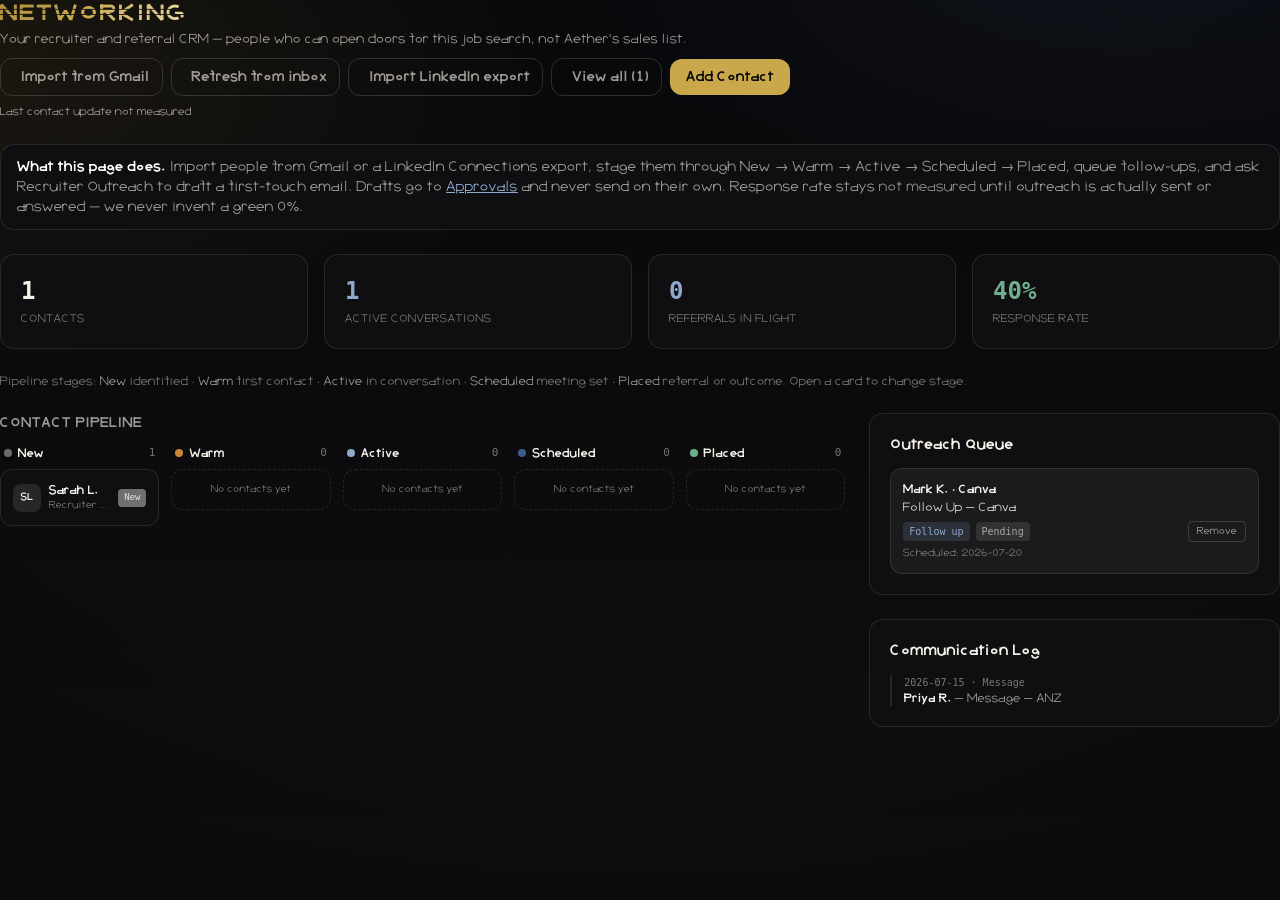
Test case: NetworkingPage — Add Contact modal UX (MV-networking-009, MV-networking-010) › Escape closes the Add Contact modal
Click the button with test id "add-contact-btn": {"x": 730, "y": 77} [670,59,790,95]
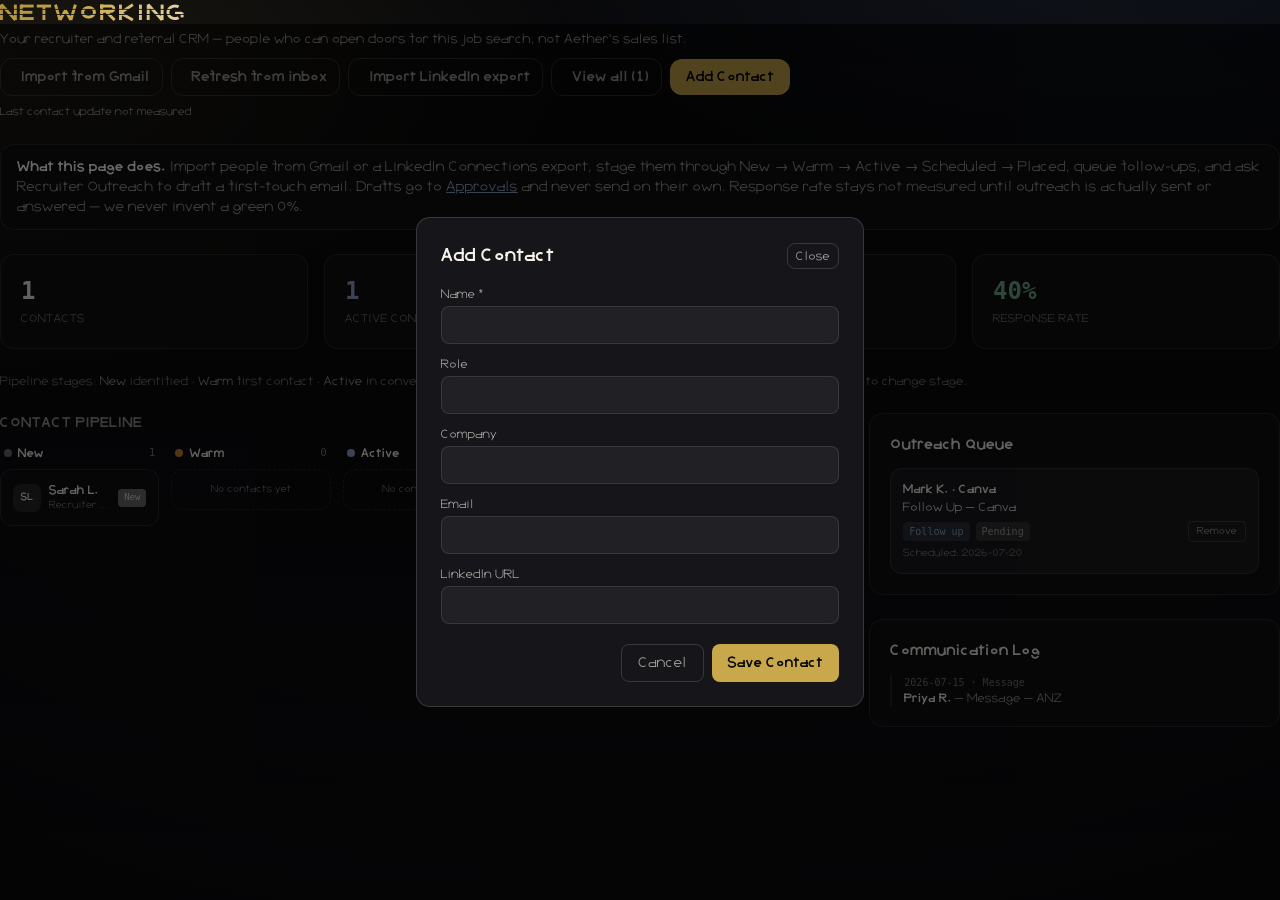
Now the element with test id "add-contact-modal" is shown, box [416,217,864,707]
Press Escape
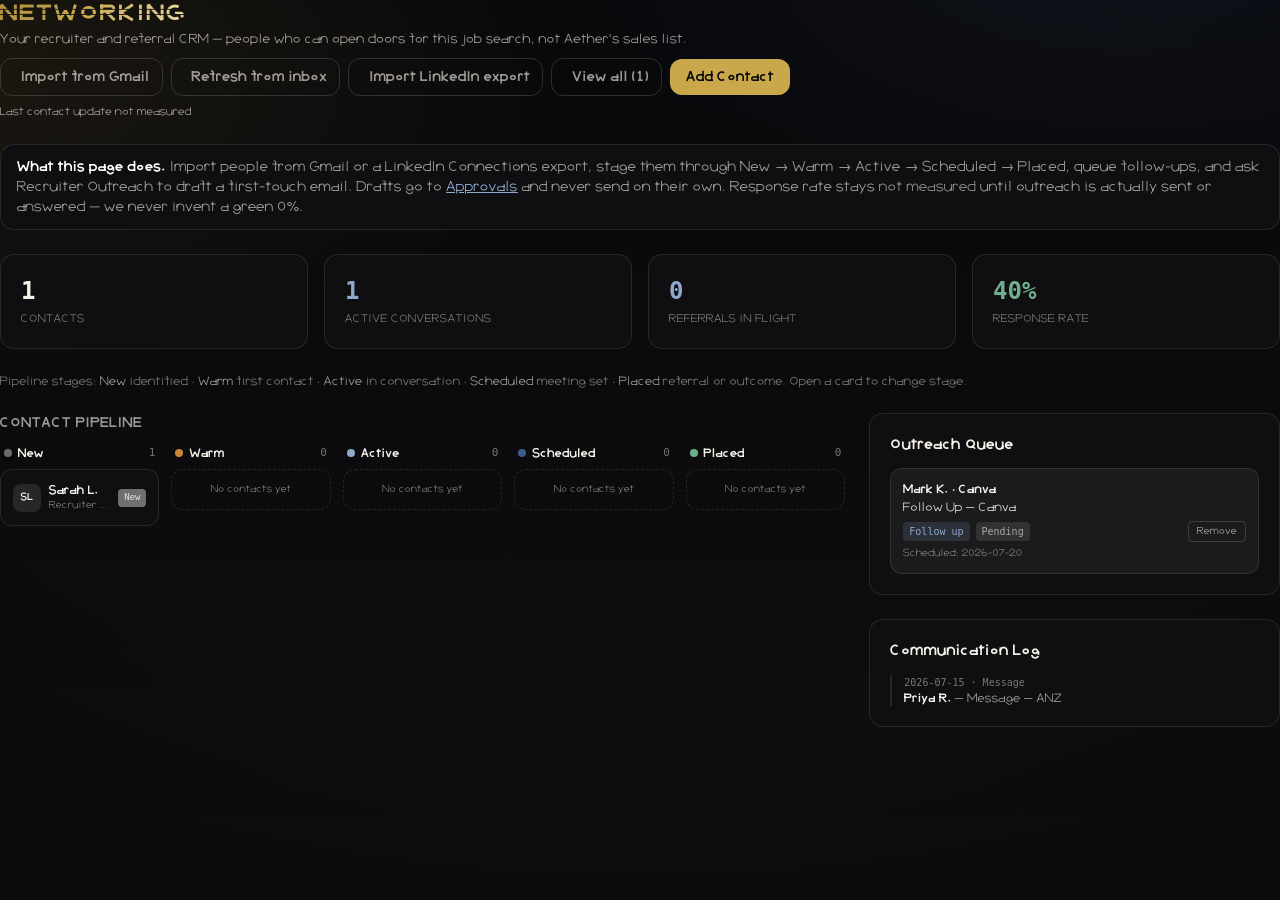
Now the element with test id "add-contact-modal" is gone
